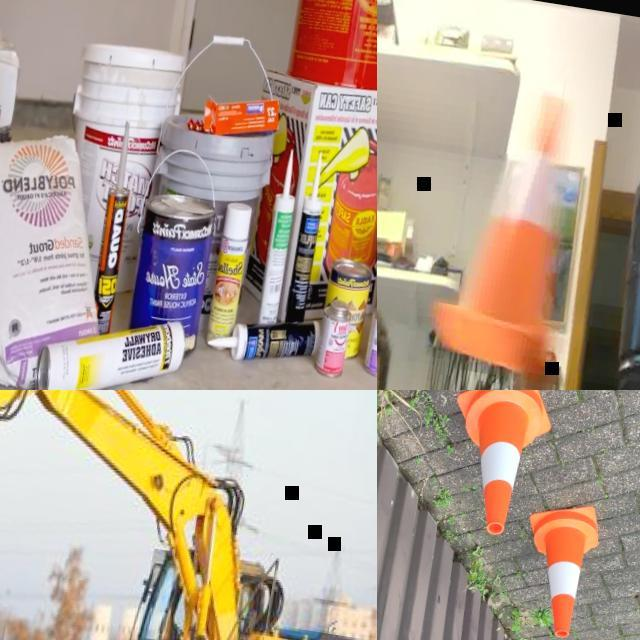machinery: (0, 390, 377, 640)
no_helmet: (377, 297, 396, 373)
safety_cone: (420, 72, 594, 386), (434, 390, 566, 549), (512, 494, 608, 640)
